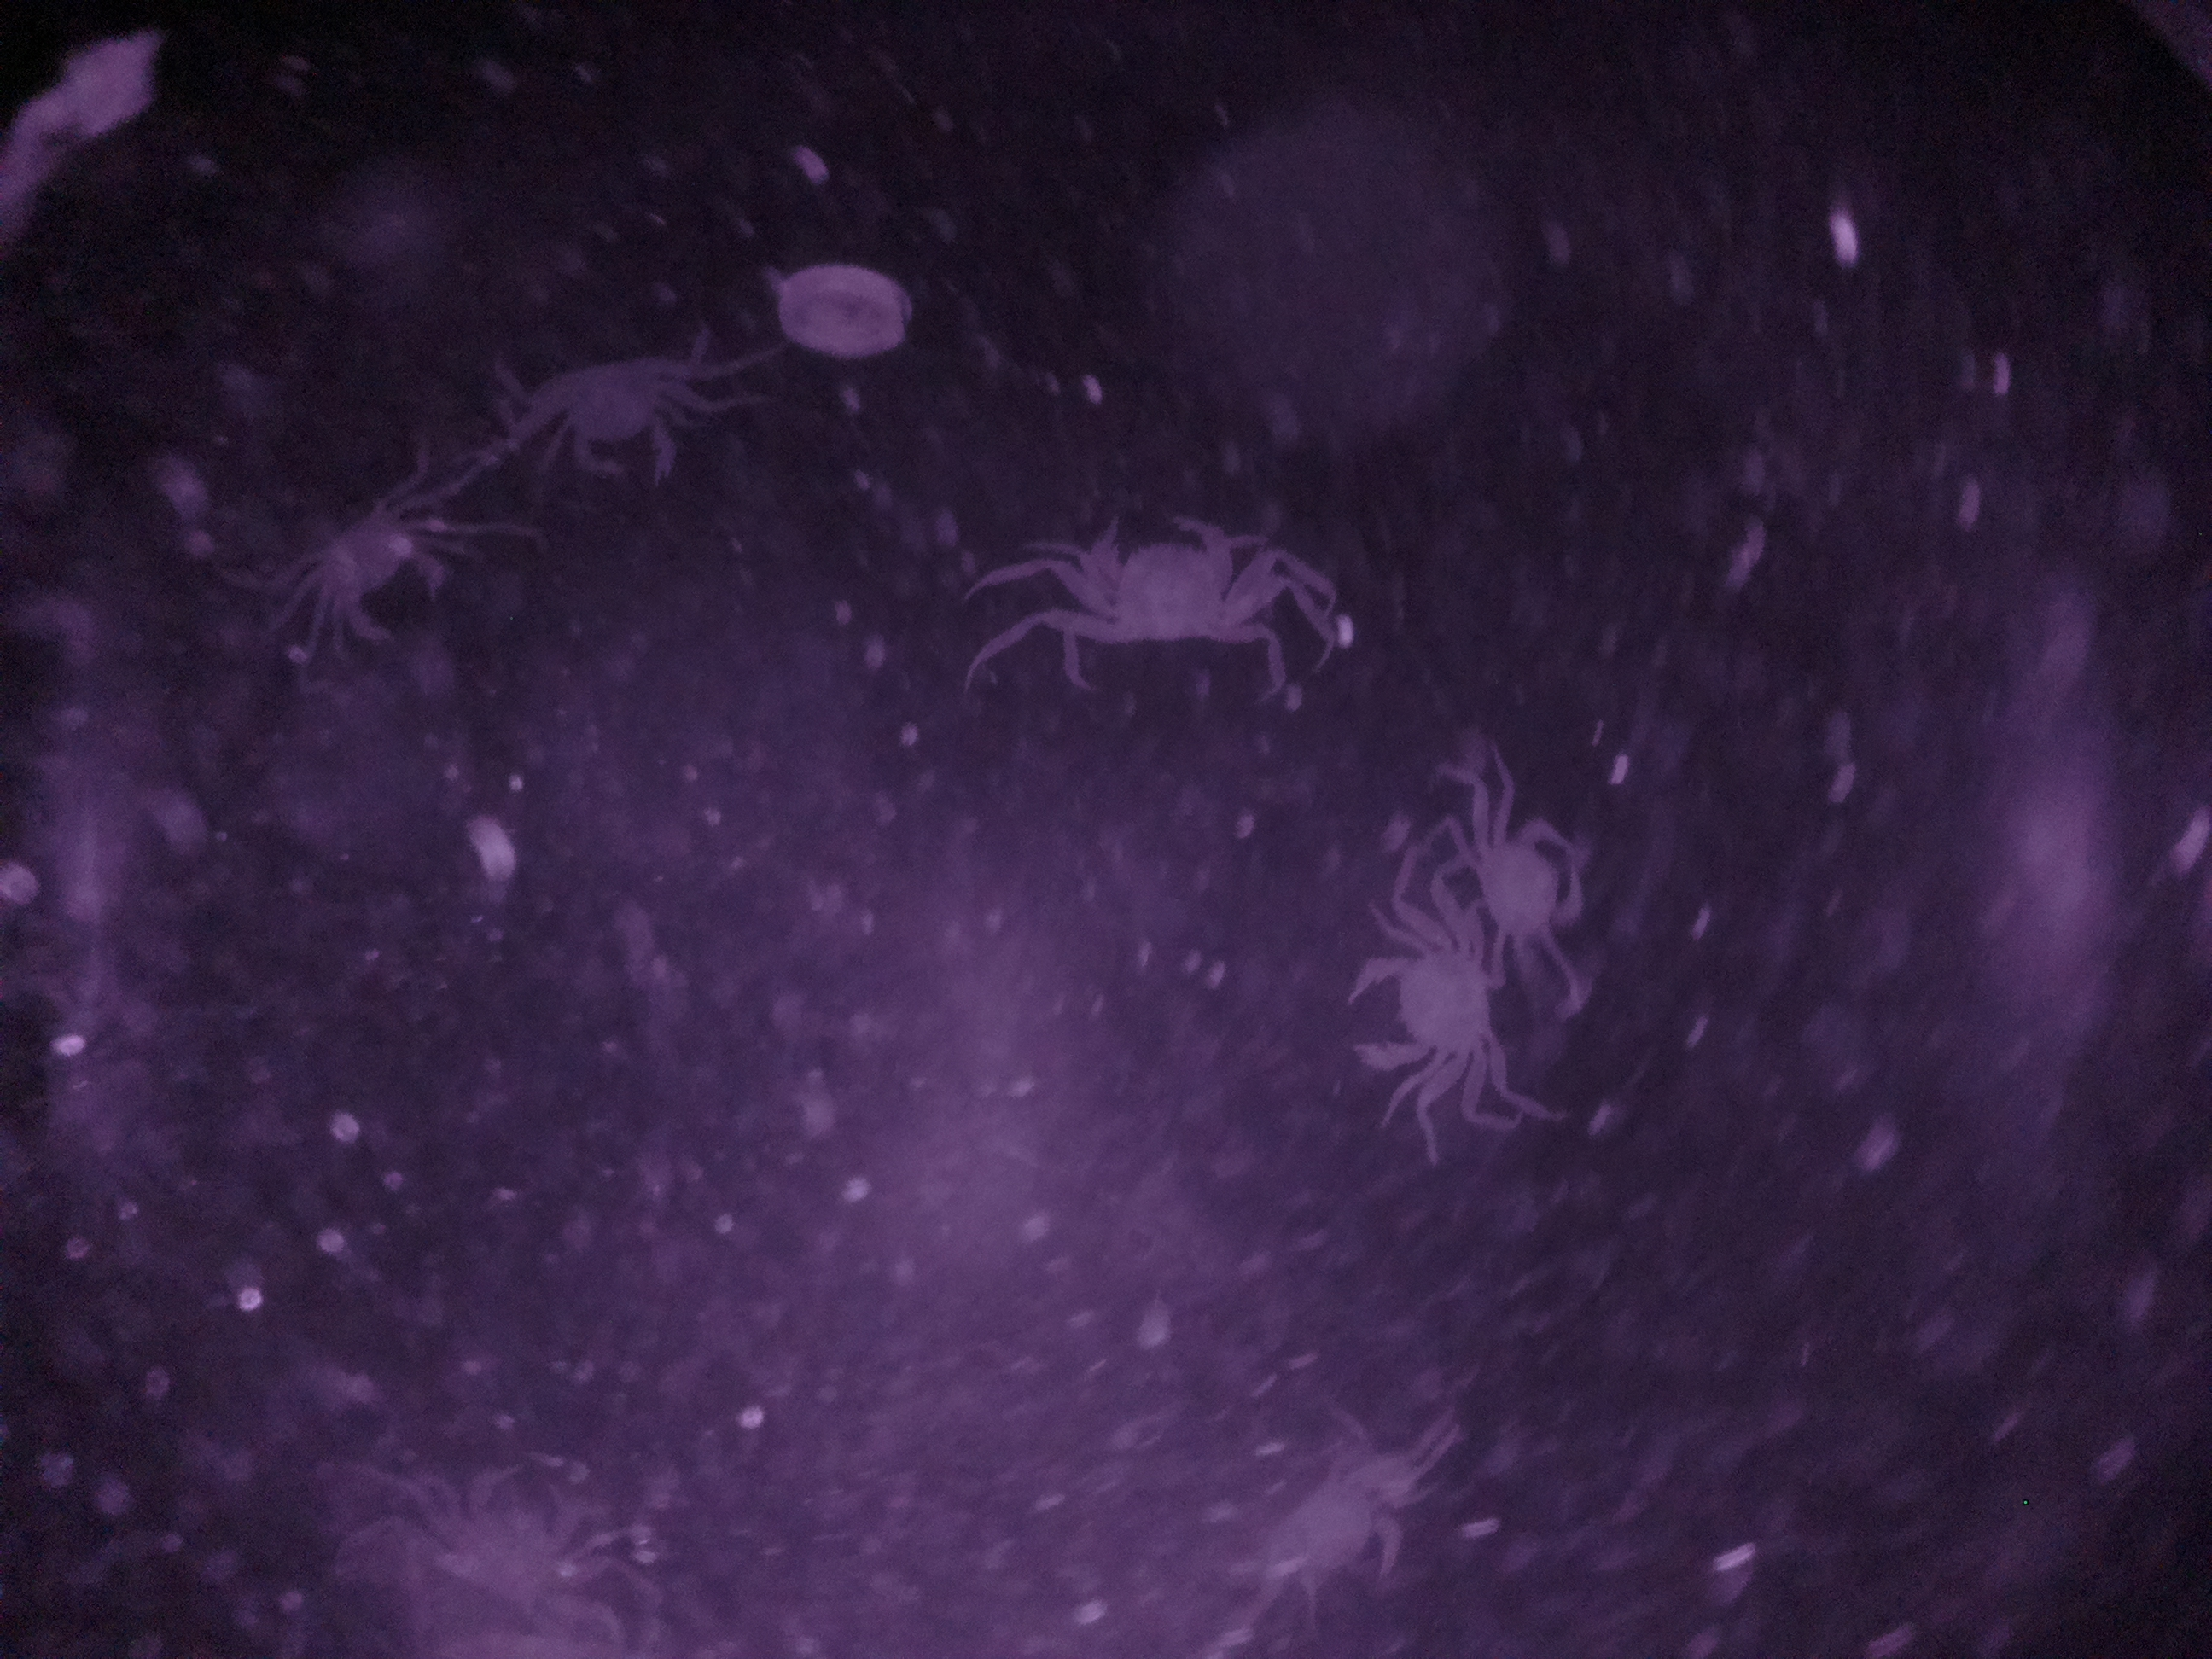Crab: (1026, 497, 1259, 664), (1329, 920, 1503, 1126), (1409, 800, 1609, 960)
